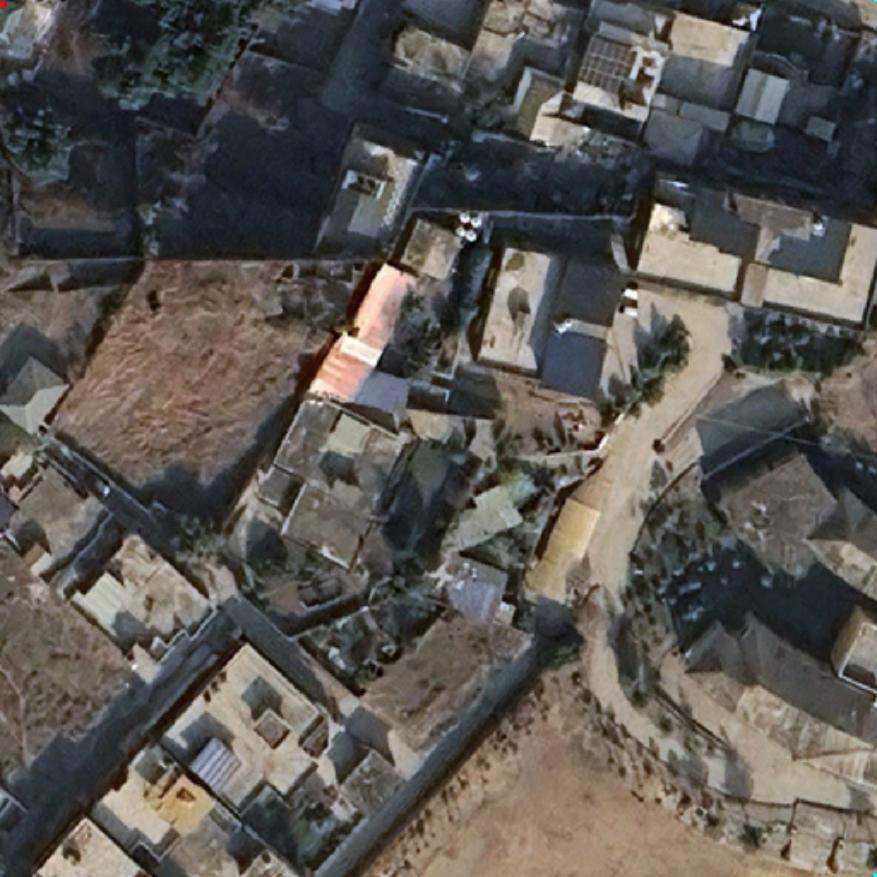Solarpanel: (184, 732, 246, 800), (576, 34, 638, 94)
